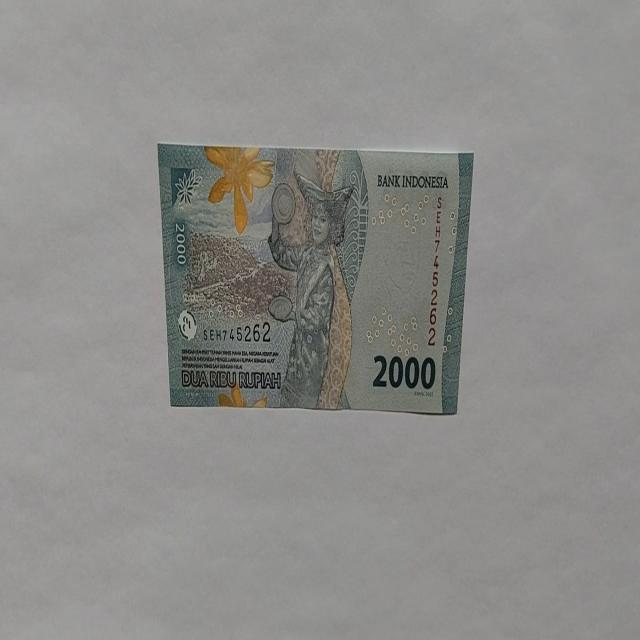dua ribu rupiah: (157, 143, 474, 414), (266, 169, 354, 409), (203, 144, 274, 235)
